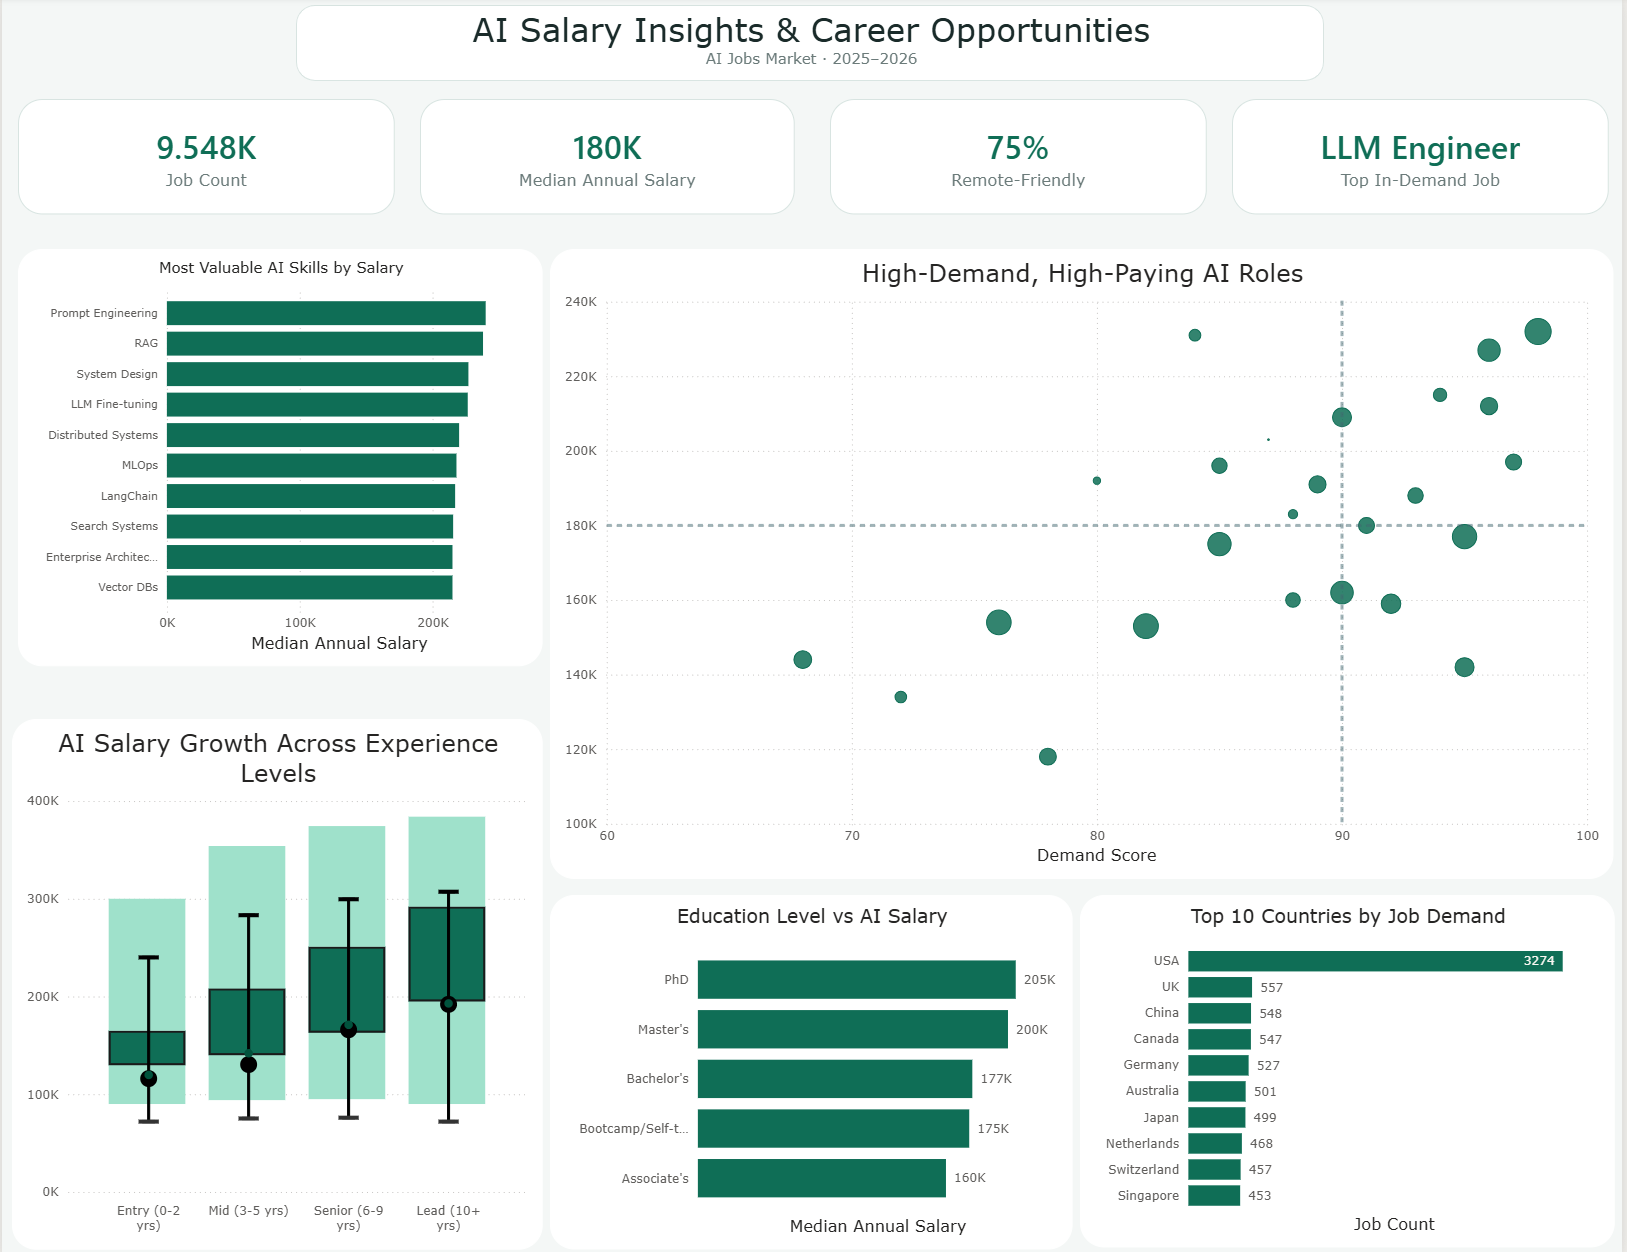

The dashboard page shown, as its layout file describes it:
{"tool":"powerbi","page":{"name":"Overview","canvas":[1600,1250],"ordinal":0},"visuals":[{"type":"cardVisual","fields":{"Data":["Min(ai_jobs_market_2025_2026.job_title)"]},"box":[1214,102,372,114],"z":0},{"type":"clusteredBarChart","title":"Top 10 Countries by Job Demand","fields":{"Category":["ai_jobs_market_2025_2026.country"],"Y":["CountNonNull(ai_jobs_market_2025_2026.job_title)"]},"box":[1064,888,528,348],"z":1000},{"type":"shape","box":[290,10,1015,75],"z":2000},{"type":"textbox","box":[292,10,1014,76],"z":3000},{"type":"cardVisual","fields":{"Data":["ai_jobs_market_2025_2026.Remote Pct"]},"box":[818,102,372,114],"z":4000},{"type":"cardVisual","fields":{"Data":["CountNonNull(ai_jobs_market_2025_2026.job_title)"]},"box":[16,102,372,114],"z":5000},{"type":"cardVisual","fields":{"Data":["Median(ai_jobs_market_2025_2026.annual_salary_usd)"]},"box":[412,102,370,114],"z":6000},{"type":"clusteredBarChart","title":"Education Level vs AI Salary","fields":{"Category":["ai_jobs_market_2025_2026.education_required"],"Y":["Median(ai_jobs_market_2025_2026.annual_salary_usd)"]},"box":[542,888,516,350],"z":7000},{"type":"lineStackedColumnComboChart","title":"AI Salary Growth Across Experience Levels","fields":{"Y":["ai_jobs_market_2025_2026.Seg Base","ai_jobs_market_2025_2026.Seg Lower Whisker","ai_jobs_market_2025_2026.Seg IQR","ai_jobs_market_2025_2026.Seg Upper Whisker"],"Y2":["ai_jobs_market_2025_2026.Salary Median","ai_jobs_market_2025_2026.Salary Min","ai_jobs_market_2025_2026.Salary Max","Avg(ai_jobs_market_2025_2026.annual_salary_usd)"],"Category":["ai_jobs_market_2025_2026.experience_level"]},"box":[10,714,524,524],"z":8000},{"type":"clusteredBarChart","title":"Most Valuable AI Skills by Salary","fields":{"Category":["ai_jobs_market_2025_2026.Skill"],"Y":["Median(ai_jobs_market_2025_2026.annual_salary_usd)"]},"box":[16,250,518,412],"z":9000},{"type":"scatterChart","title":"High-Demand, High-Paying AI Roles","fields":{"Y":["Median(ai_jobs_market_2025_2026.annual_salary_usd)"],"Category":["ai_jobs_market_2025_2026.job_title"],"X":["Avg(ai_jobs_market_2025_2026.demand_score)"],"Size":["CountNonNull(ai_jobs_market_2025_2026.job_id)"]},"box":[542,250,1050,622],"z":10000}]}

Visuals, with their boxes in screenshot pixels (x1, y1, x2, y2), scaled from the page's 1600x1250 canvas onto the 1627x1252 screenshot:
cardVisual - Min(ai_jobs_market_2025_2026.job_title): (1234,102,1613,216)
"Top 10 Countries by Job Demand" clusteredBarChart: (1082,889,1619,1238)
shape: (295,10,1327,85)
textbox: (297,10,1328,86)
cardVisual - ai_jobs_market_2025_2026.Remote Pct: (832,102,1210,216)
cardVisual - CountNonNull(ai_jobs_market_2025_2026.job_title): (16,102,395,216)
cardVisual - Median(ai_jobs_market_2025_2026.annual_salary_usd): (419,102,795,216)
"Education Level vs AI Salary" clusteredBarChart: (551,889,1076,1240)
"AI Salary Growth Across Experience Levels" lineStackedColumnComboChart: (10,715,543,1240)
"Most Valuable AI Skills by Salary" clusteredBarChart: (16,250,543,663)
"High-Demand, High-Paying AI Roles" scatterChart: (551,250,1619,873)
